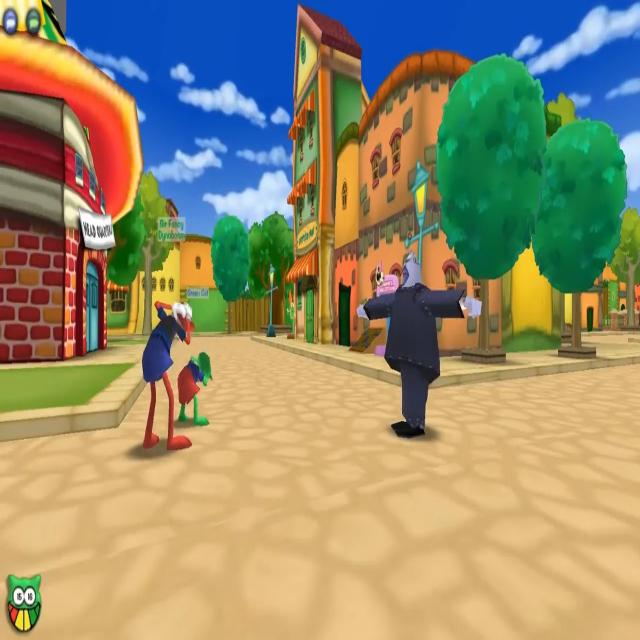bottomfeeder: (355, 238, 482, 444)
